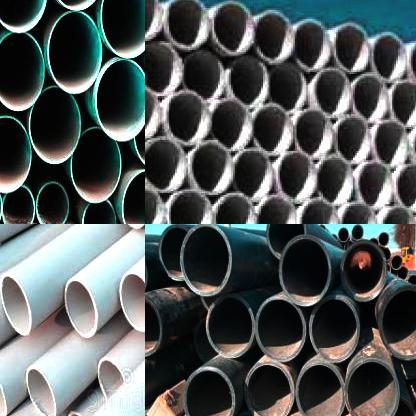pipe: (48, 10, 102, 94), (95, 58, 145, 142), (29, 85, 81, 164), (70, 127, 122, 203), (180, 224, 232, 295), (280, 235, 332, 306), (0, 32, 45, 111), (255, 296, 306, 362), (310, 296, 360, 362), (344, 358, 400, 416), (162, 87, 214, 148), (205, 295, 254, 356), (340, 240, 387, 301), (244, 361, 295, 416), (186, 140, 236, 196), (379, 285, 416, 360), (296, 361, 345, 416), (252, 7, 297, 66), (272, 152, 320, 207), (179, 46, 226, 102), (226, 54, 272, 111), (248, 103, 295, 158), (101, 0, 145, 58), (145, 138, 189, 196), (184, 367, 236, 416), (162, 0, 210, 53), (231, 148, 276, 204), (210, 0, 254, 57), (290, 18, 334, 74), (0, 115, 31, 192), (290, 108, 335, 161), (330, 19, 373, 74), (207, 102, 254, 152), (314, 154, 358, 207), (145, 39, 185, 97), (367, 31, 409, 85), (331, 117, 375, 168), (268, 61, 308, 116), (355, 159, 396, 212), (348, 74, 391, 123), (64, 278, 98, 338), (312, 70, 354, 118), (370, 121, 410, 171), (0, 274, 31, 336), (159, 189, 213, 224), (158, 224, 189, 281), (209, 191, 258, 224), (0, 0, 48, 33), (25, 365, 56, 416), (119, 271, 145, 331), (266, 224, 307, 259), (36, 182, 69, 224), (249, 195, 296, 224), (390, 78, 416, 129), (2, 185, 35, 224), (391, 164, 416, 214), (122, 170, 145, 224), (145, 81, 165, 142), (293, 199, 341, 224), (98, 357, 126, 398), (145, 295, 162, 357), (133, 94, 145, 171), (145, 0, 166, 43), (335, 203, 377, 224), (145, 185, 167, 224), (82, 199, 116, 224), (371, 398, 416, 416), (373, 206, 416, 224), (407, 36, 416, 89), (352, 224, 364, 240), (338, 227, 350, 242), (378, 231, 390, 246), (396, 266, 408, 280), (391, 255, 402, 270), (382, 246, 391, 260), (408, 274, 416, 285)
